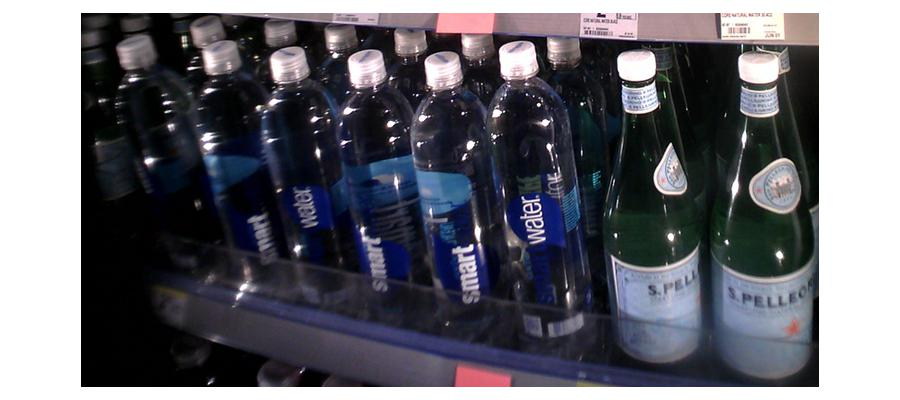bottle: (711, 59, 812, 384), (609, 49, 708, 377), (490, 49, 590, 355), (417, 57, 495, 341), (336, 52, 418, 321), (192, 35, 273, 297), (260, 46, 334, 307)
